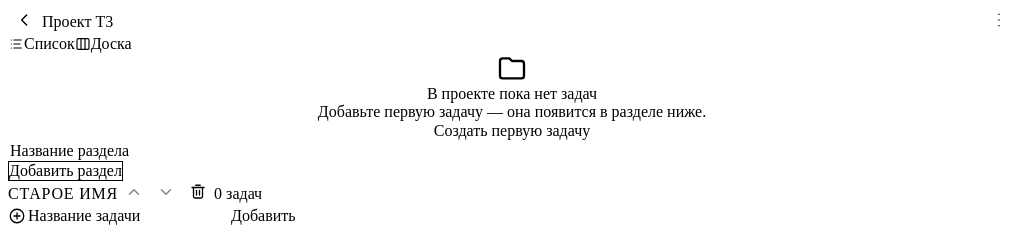
Test: ProjectDetail — CRUD секций (E09.4) › переименование раздела сохраняется через updateSectionCommand
Click the button "Старое имя": (63, 194) [8,184,118,202]
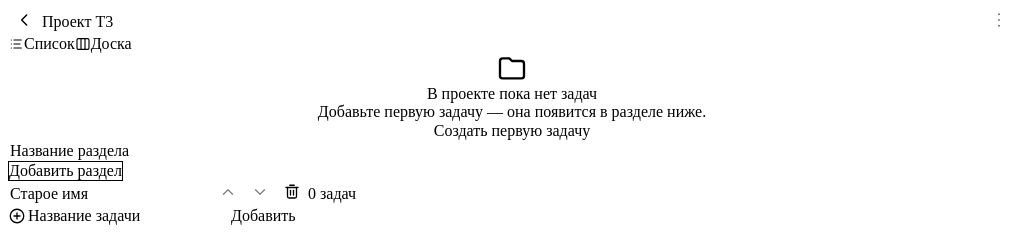
Replace the text in the field named "Переименовать раздел «Старое имя»" with "Новое имя": (110, 194) [8,184,212,204]
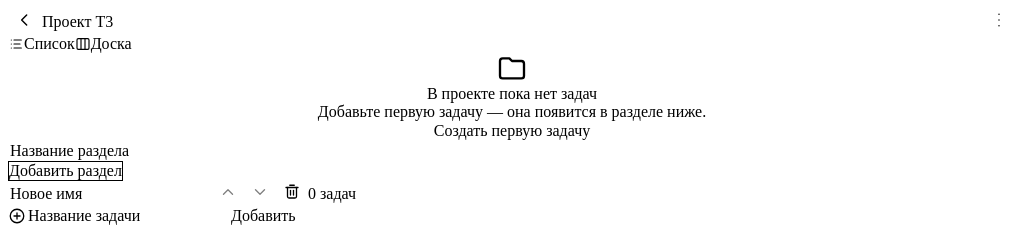
Press Tab
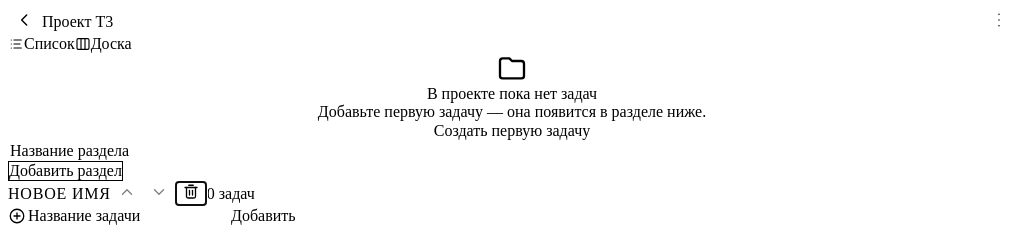
Result: the button "Новое имя" is shown at [8,184,111,202]
